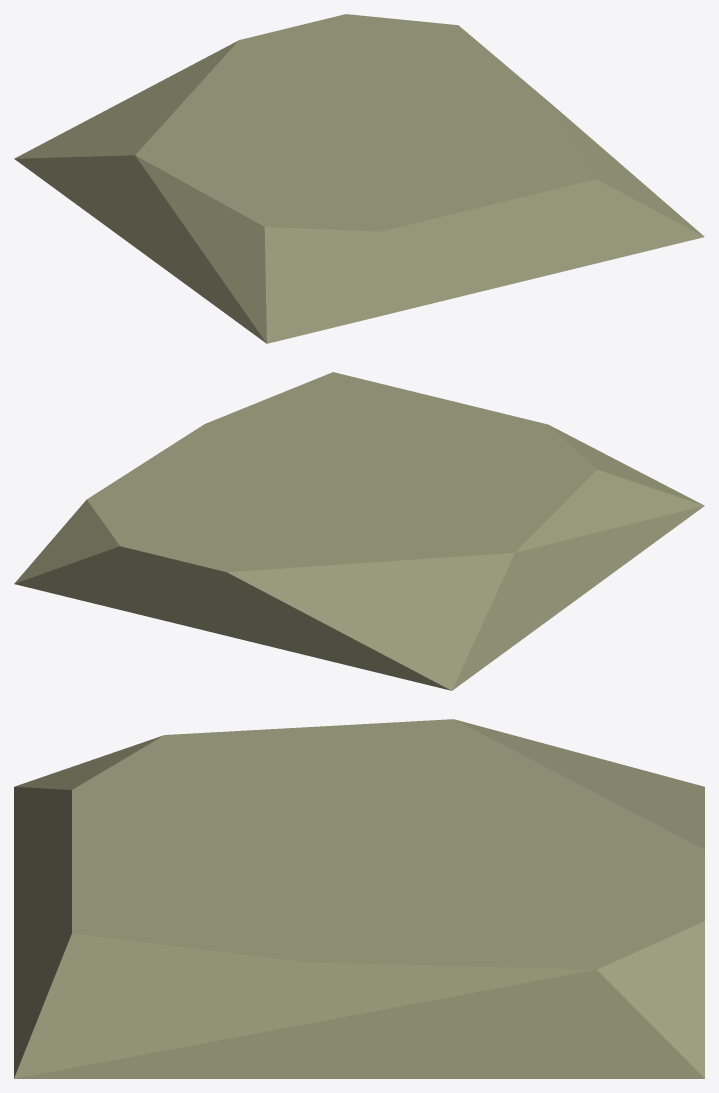
Rendered from stone2.fbx.
3 renders of one model, top to bottom at view 1: azimuth 30°, elevation 25°; view 2: azimuth 150°, elevation 25°; view 3: azimuth 270°, elevation 25°, orthographic. The views are drawn at different scales.
Parts seen in each view (by area): view 1: Mesh16; view 2: Mesh16; view 3: Mesh16.
Boxes of the visible parts, x1=… form: Mesh16: x1=14, y1=14, x2=704, y2=343; Mesh16: x1=14, y1=372, x2=704, y2=690; Mesh16: x1=14, y1=719, x2=704, y2=1078.
Size of the model in its own units: 100 by 13.9 by 100.
